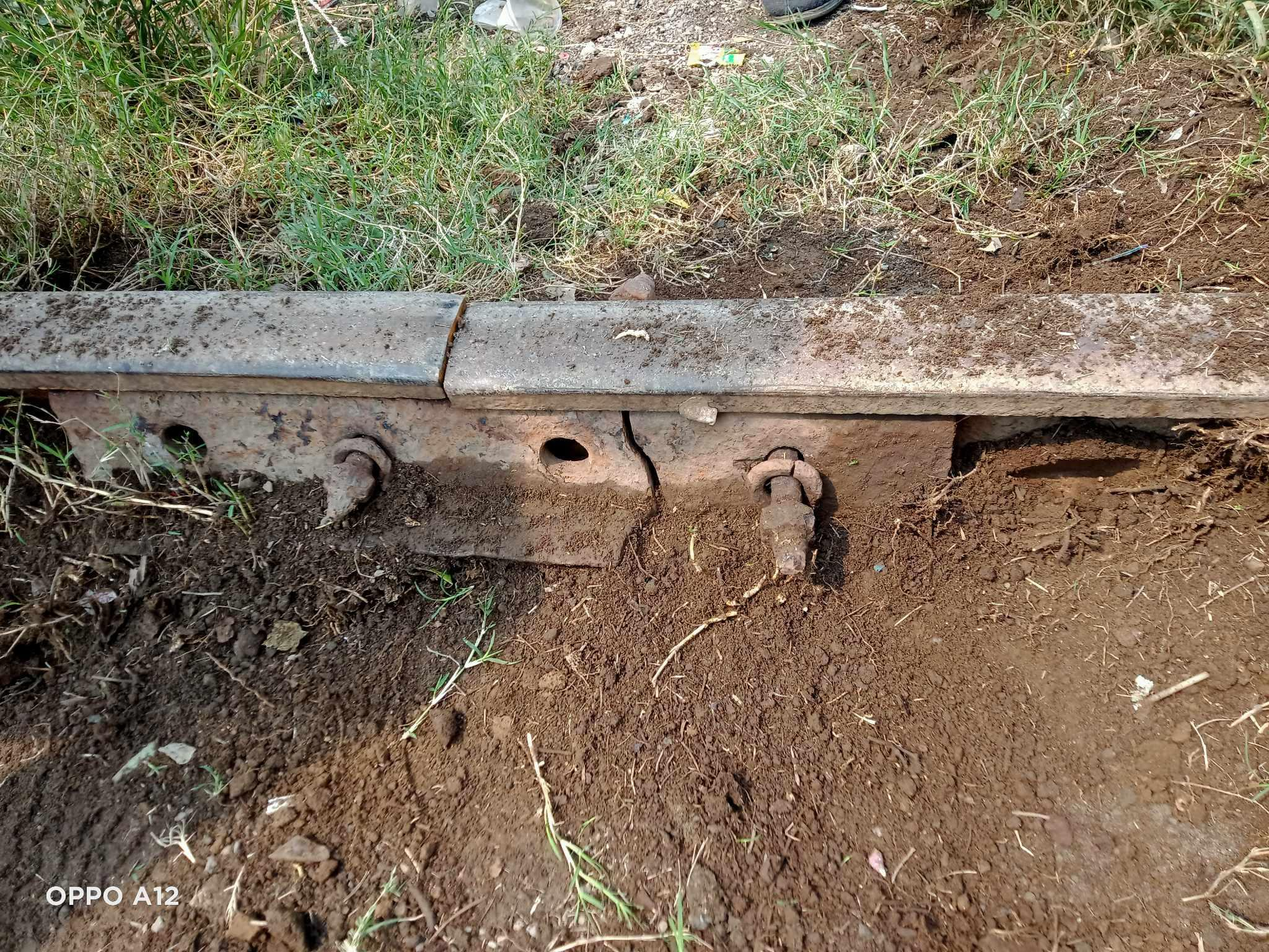railway-gap: (340, 258, 557, 442), (596, 398, 704, 569)
